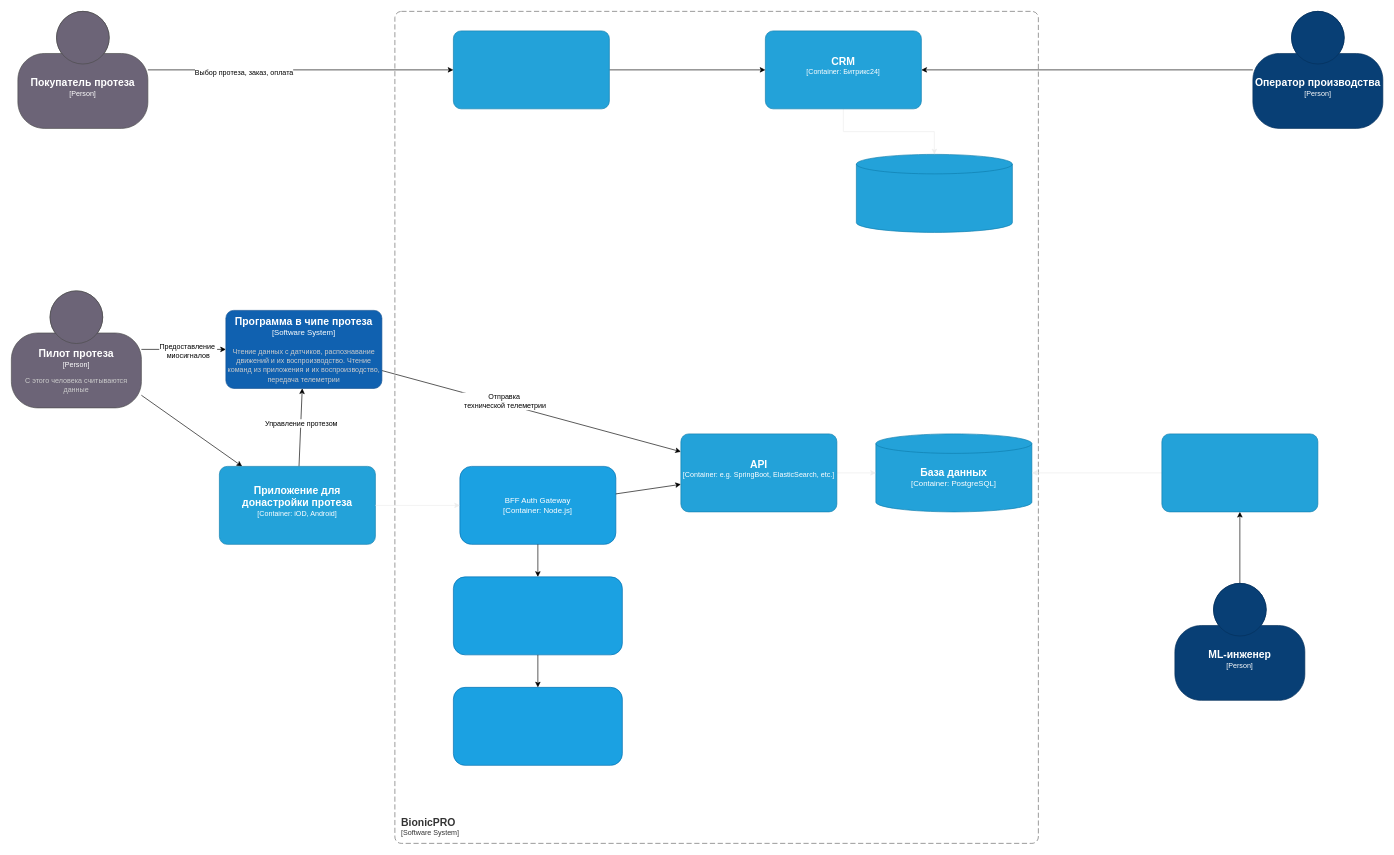
Image size: 1394x855. Some labels were removed from this diagram. The box of each missing label's shape, as (x1, y1, x2, y2) in pixels:
cli tool [Container: e.g. SpringBoot, ElasticSearch, etc.]: (1161, 433, 1318, 512)
CRM DB [Container: e.g. Oracle Database 12]: (856, 154, 1012, 232)
External Identity Providers (EU / US / RU): (453, 687, 622, 765)
Keycloak (IAM / Identity Broker): (453, 576, 622, 655)
Интернет-магазин [Container: Битрикс24]: (453, 30, 609, 109)
